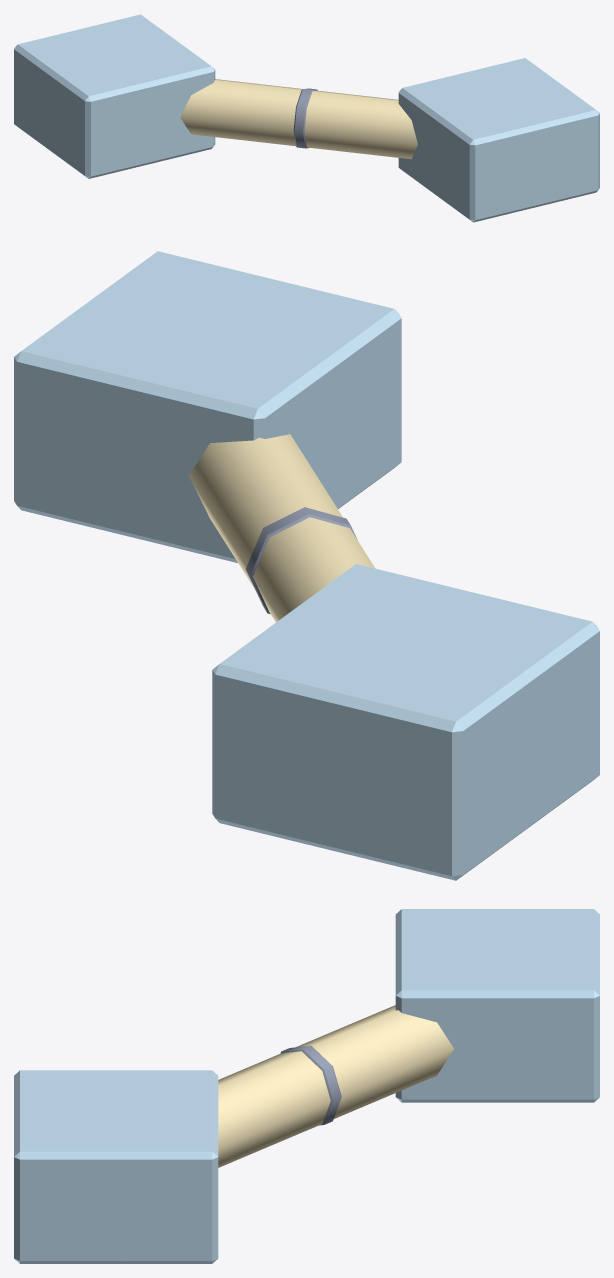
The model's file is R4C_ROD_DIAG_2D_SHORT_LOD1.glb.
3 views of the same model, one above another, from view 1: azimuth 30°, elevation 25°; view 2: azimuth 150°, elevation 25°; view 3: azimuth 270°, elevation 25° (orthographic). The views are drawn at different scales.
Parts seen in each view (by area): view 1: R4C_ROD_DIAG_2D_SHORT_LOD1; view 2: R4C_ROD_DIAG_2D_SHORT_LOD1; view 3: R4C_ROD_DIAG_2D_SHORT_LOD1.
Boxes of the visible parts, x1,y1,x2,y2 form: R4C_ROD_DIAG_2D_SHORT_LOD1: [14, 14, 599, 222]; R4C_ROD_DIAG_2D_SHORT_LOD1: [14, 251, 599, 880]; R4C_ROD_DIAG_2D_SHORT_LOD1: [14, 909, 599, 1263].
Size of the model in its own units: 1.07 by 0.226 by 1.07.
